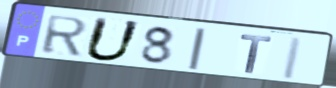8: (138, 25, 176, 66)
I: (279, 35, 306, 81), (186, 26, 208, 72)
R: (40, 14, 91, 58)
T: (238, 33, 274, 75)
U: (81, 16, 144, 64)
